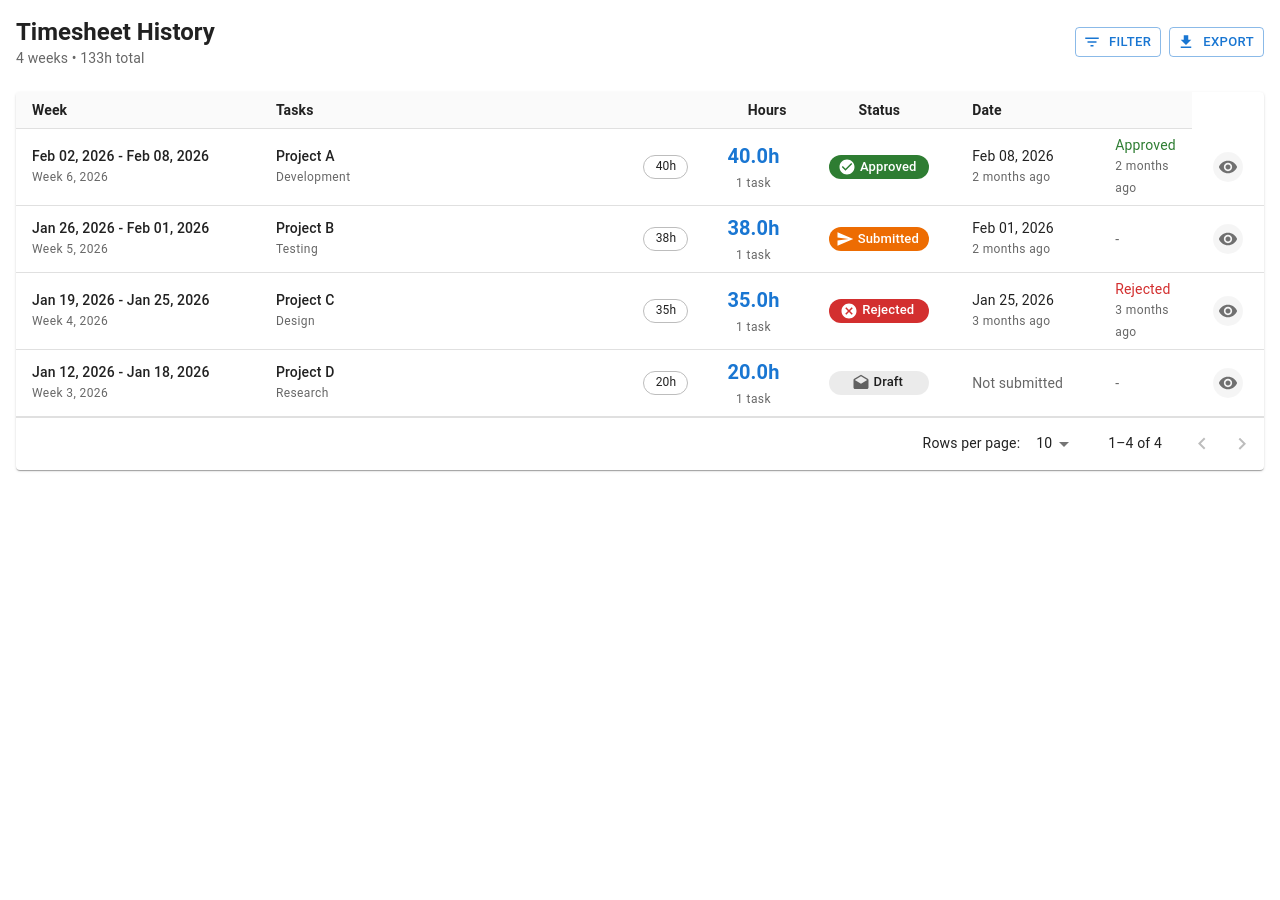
it: TimesheetHistory › Filter panel › clear button resets all filters
// Open filter panel and apply a status filter
Click the button with test id "ts-history-filter-toggle" at x=1118, y=42, box [1075,27,1161,57]
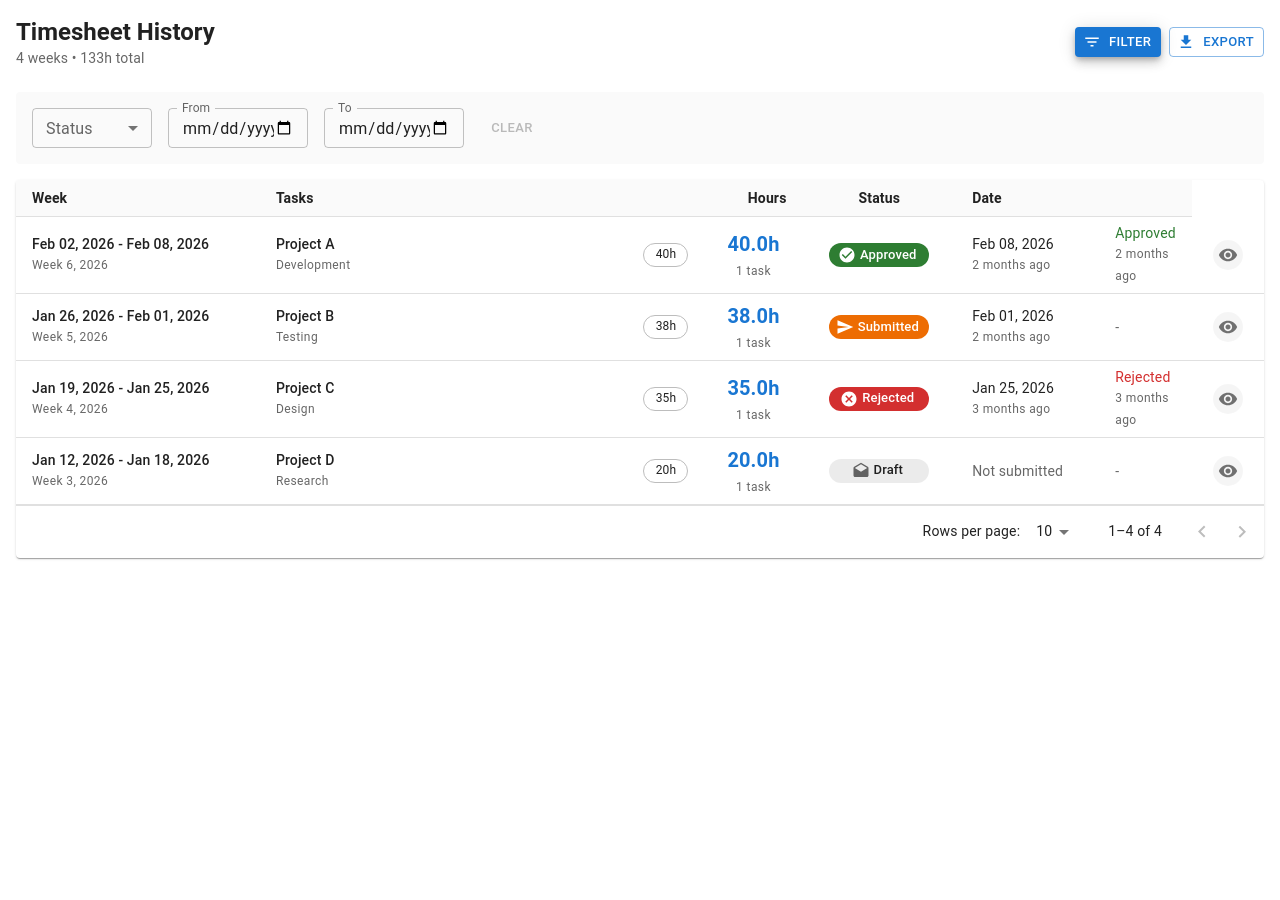
Result: the element with test id "ts-history-status-select" is shown
Press the mouse on the 1st dropdown at x=92, y=128, box [32,108,152,148]
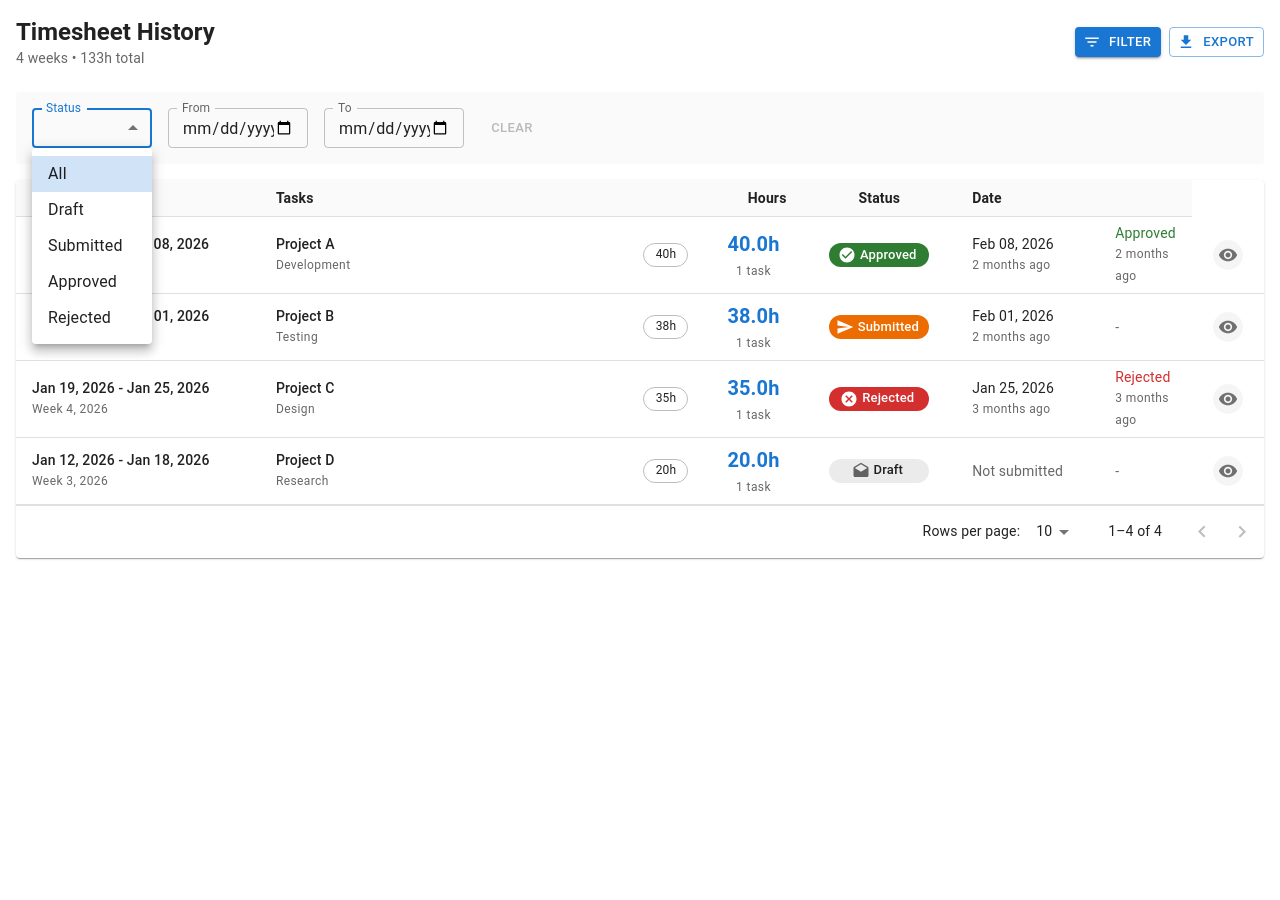
Result: the list is shown at [32,148,152,344]
Click the option "Draft" at x=66, y=210, box [48,200,84,219]
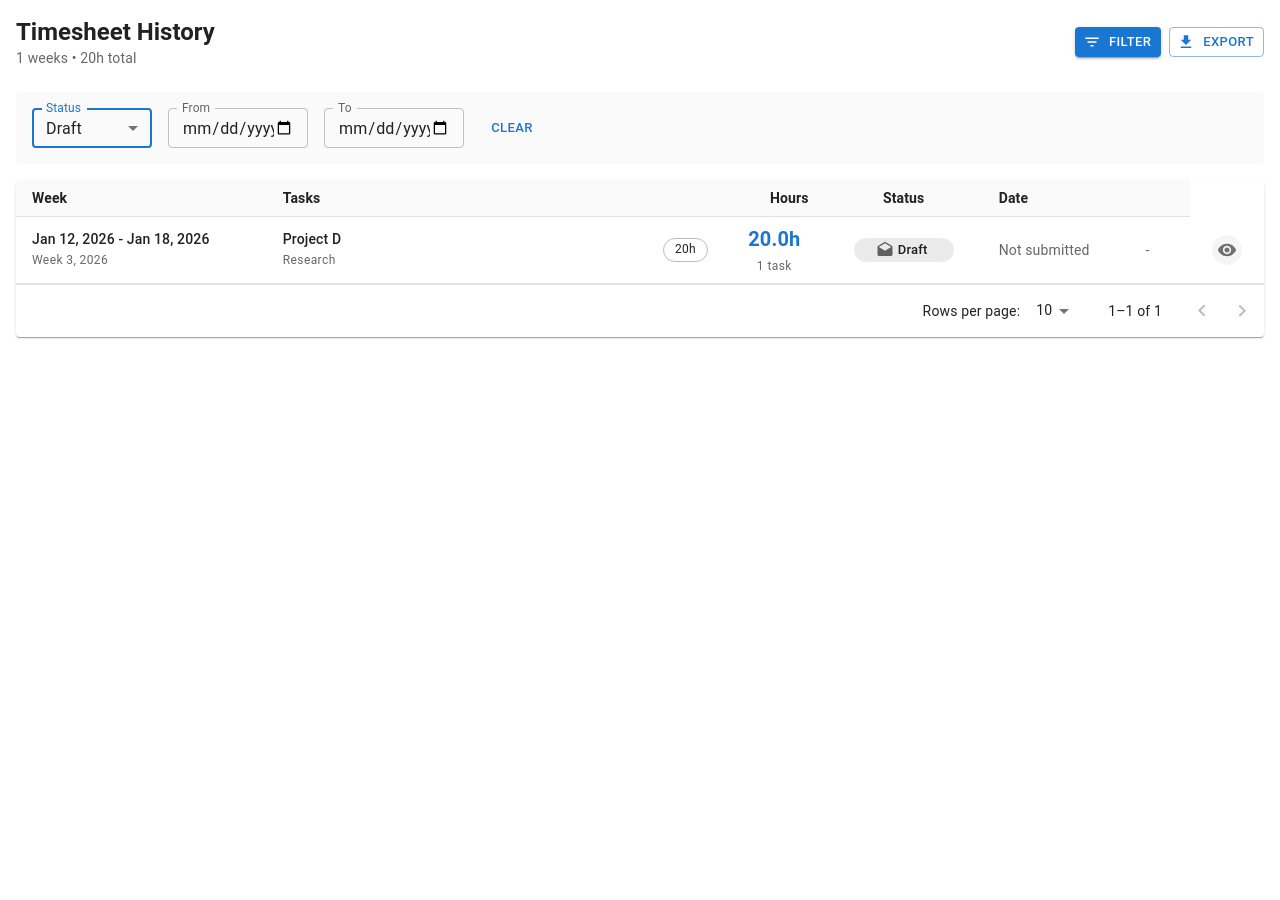
Result: the text "1 weeks • 20h total" is shown at [16,50,136,66]
// Click Clear
Click the button "Clear" at x=512, y=128, box [480,113,544,144]
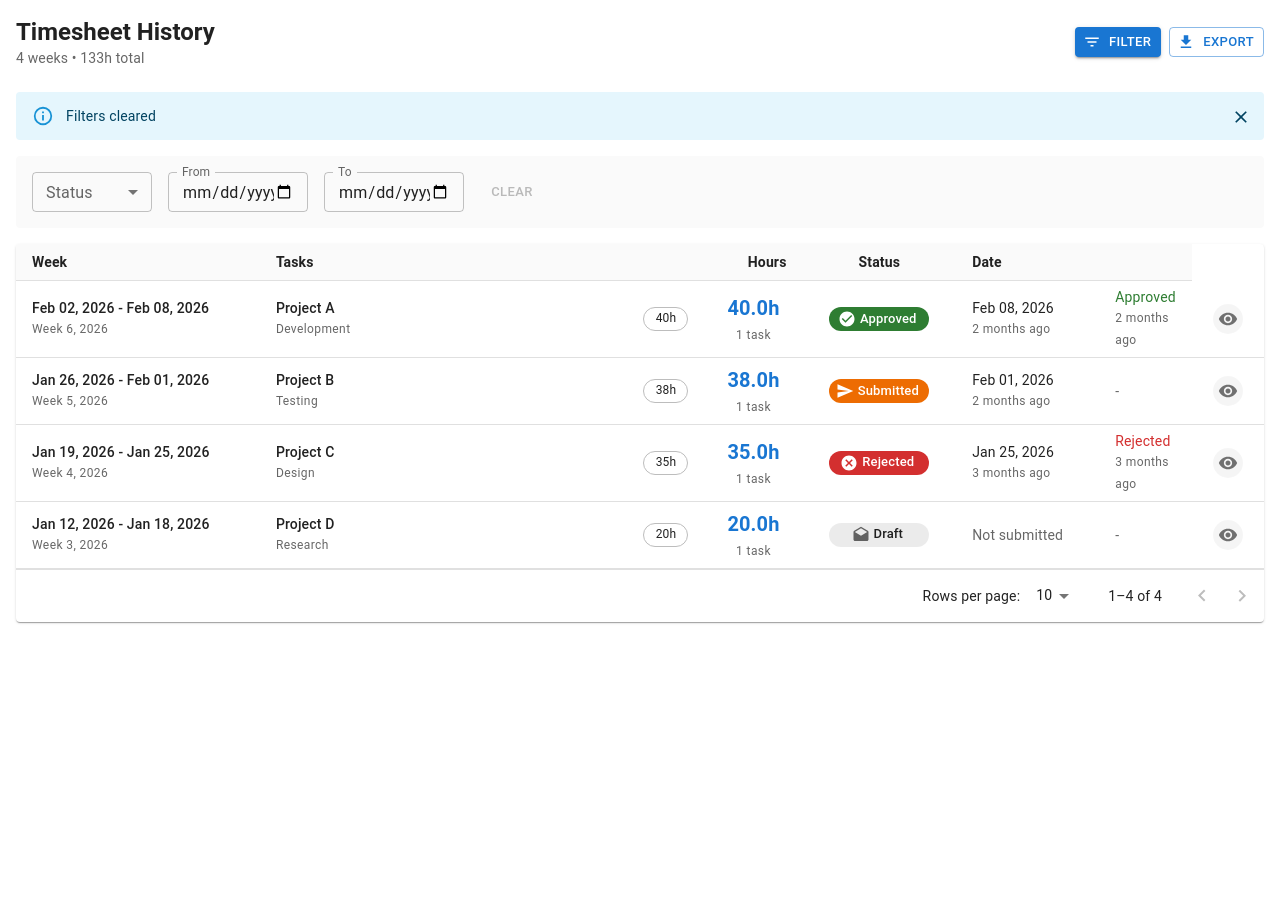
Result: the text "4 weeks • 133h total" is shown at [16,50,144,66]
